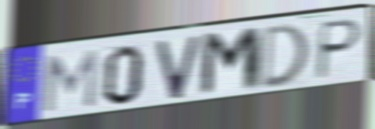0: (102, 43, 147, 107)
D: (259, 21, 311, 92)
M: (198, 24, 264, 100), (40, 48, 100, 115)
P: (313, 17, 365, 83)
V: (153, 33, 204, 102)
